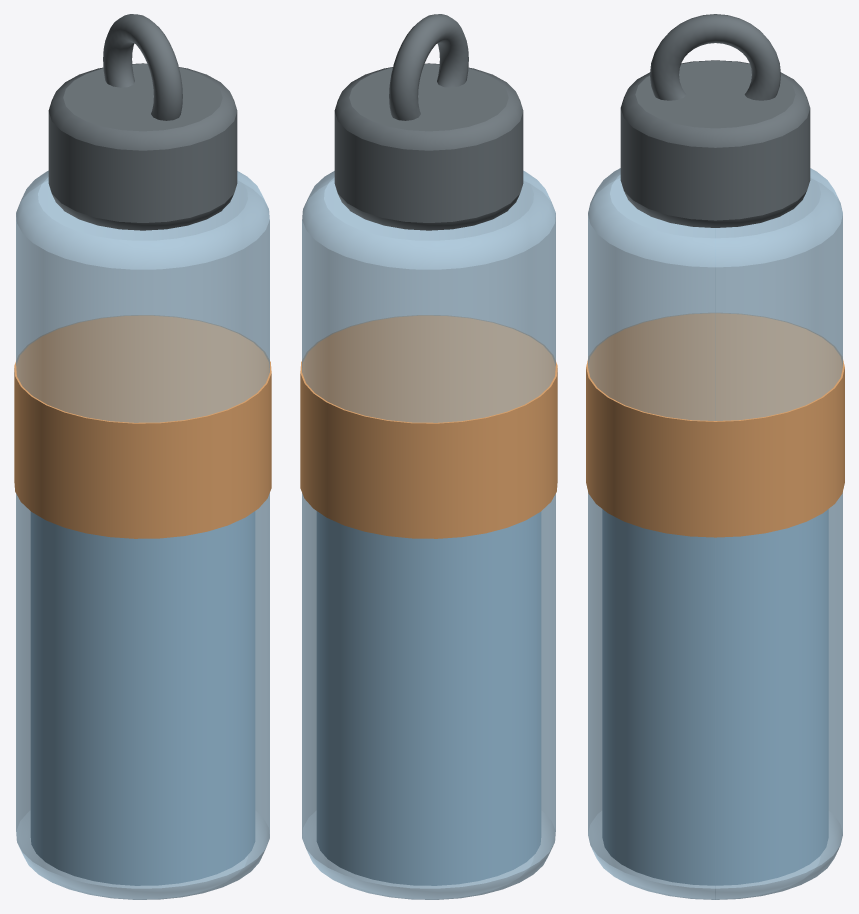
Rendered from water_bottle.glb.
3 views of the same model, side by side, from view 1: azimuth 30°, elevation 25°; view 2: azimuth 150°, elevation 25°; view 3: azimuth 270°, elevation 25° (orthographic).
Visible parts, largest first — view 1: bottle_water, water_level_cool_blue, label_orange, cap_graphite, loop_graphite; view 2: bottle_water, water_level_cool_blue, label_orange, cap_graphite, loop_graphite; view 3: bottle_water, water_level_cool_blue, label_orange, cap_graphite, loop_graphite.
Boxes of the visible parts, x1,y1,x2,y2 form: bottle_water: (16, 170, 269, 899); water_level_cool_blue: (30, 511, 255, 885); label_orange: (14, 315, 271, 538); cap_graphite: (48, 63, 237, 230); loop_graphite: (103, 14, 182, 120); bottle_water: (302, 170, 555, 899); water_level_cool_blue: (316, 511, 541, 885); label_orange: (300, 315, 557, 538); cap_graphite: (334, 63, 523, 230); loop_graphite: (389, 14, 468, 120); bottle_water: (588, 168, 842, 899); water_level_cool_blue: (602, 509, 828, 885); label_orange: (586, 313, 844, 537); cap_graphite: (620, 60, 810, 227); loop_graphite: (650, 14, 780, 100).
Bounding box in the file's own units: 0.071 × 0.254 × 0.071.
